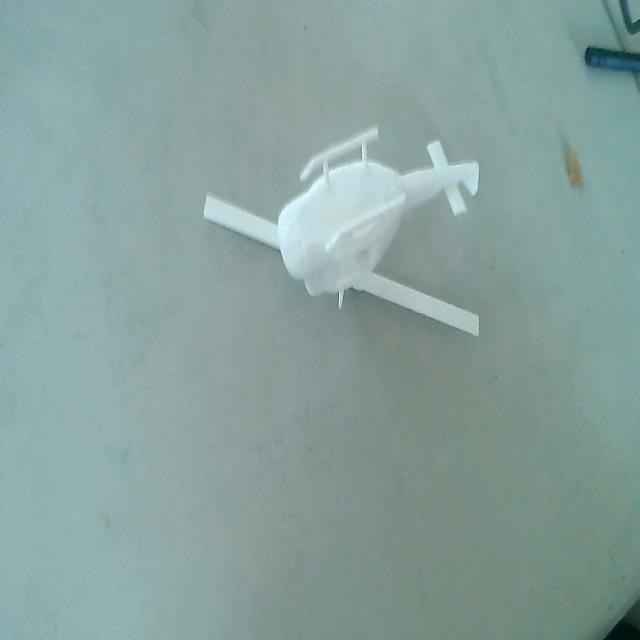Helicopter: (199, 125, 482, 336)
